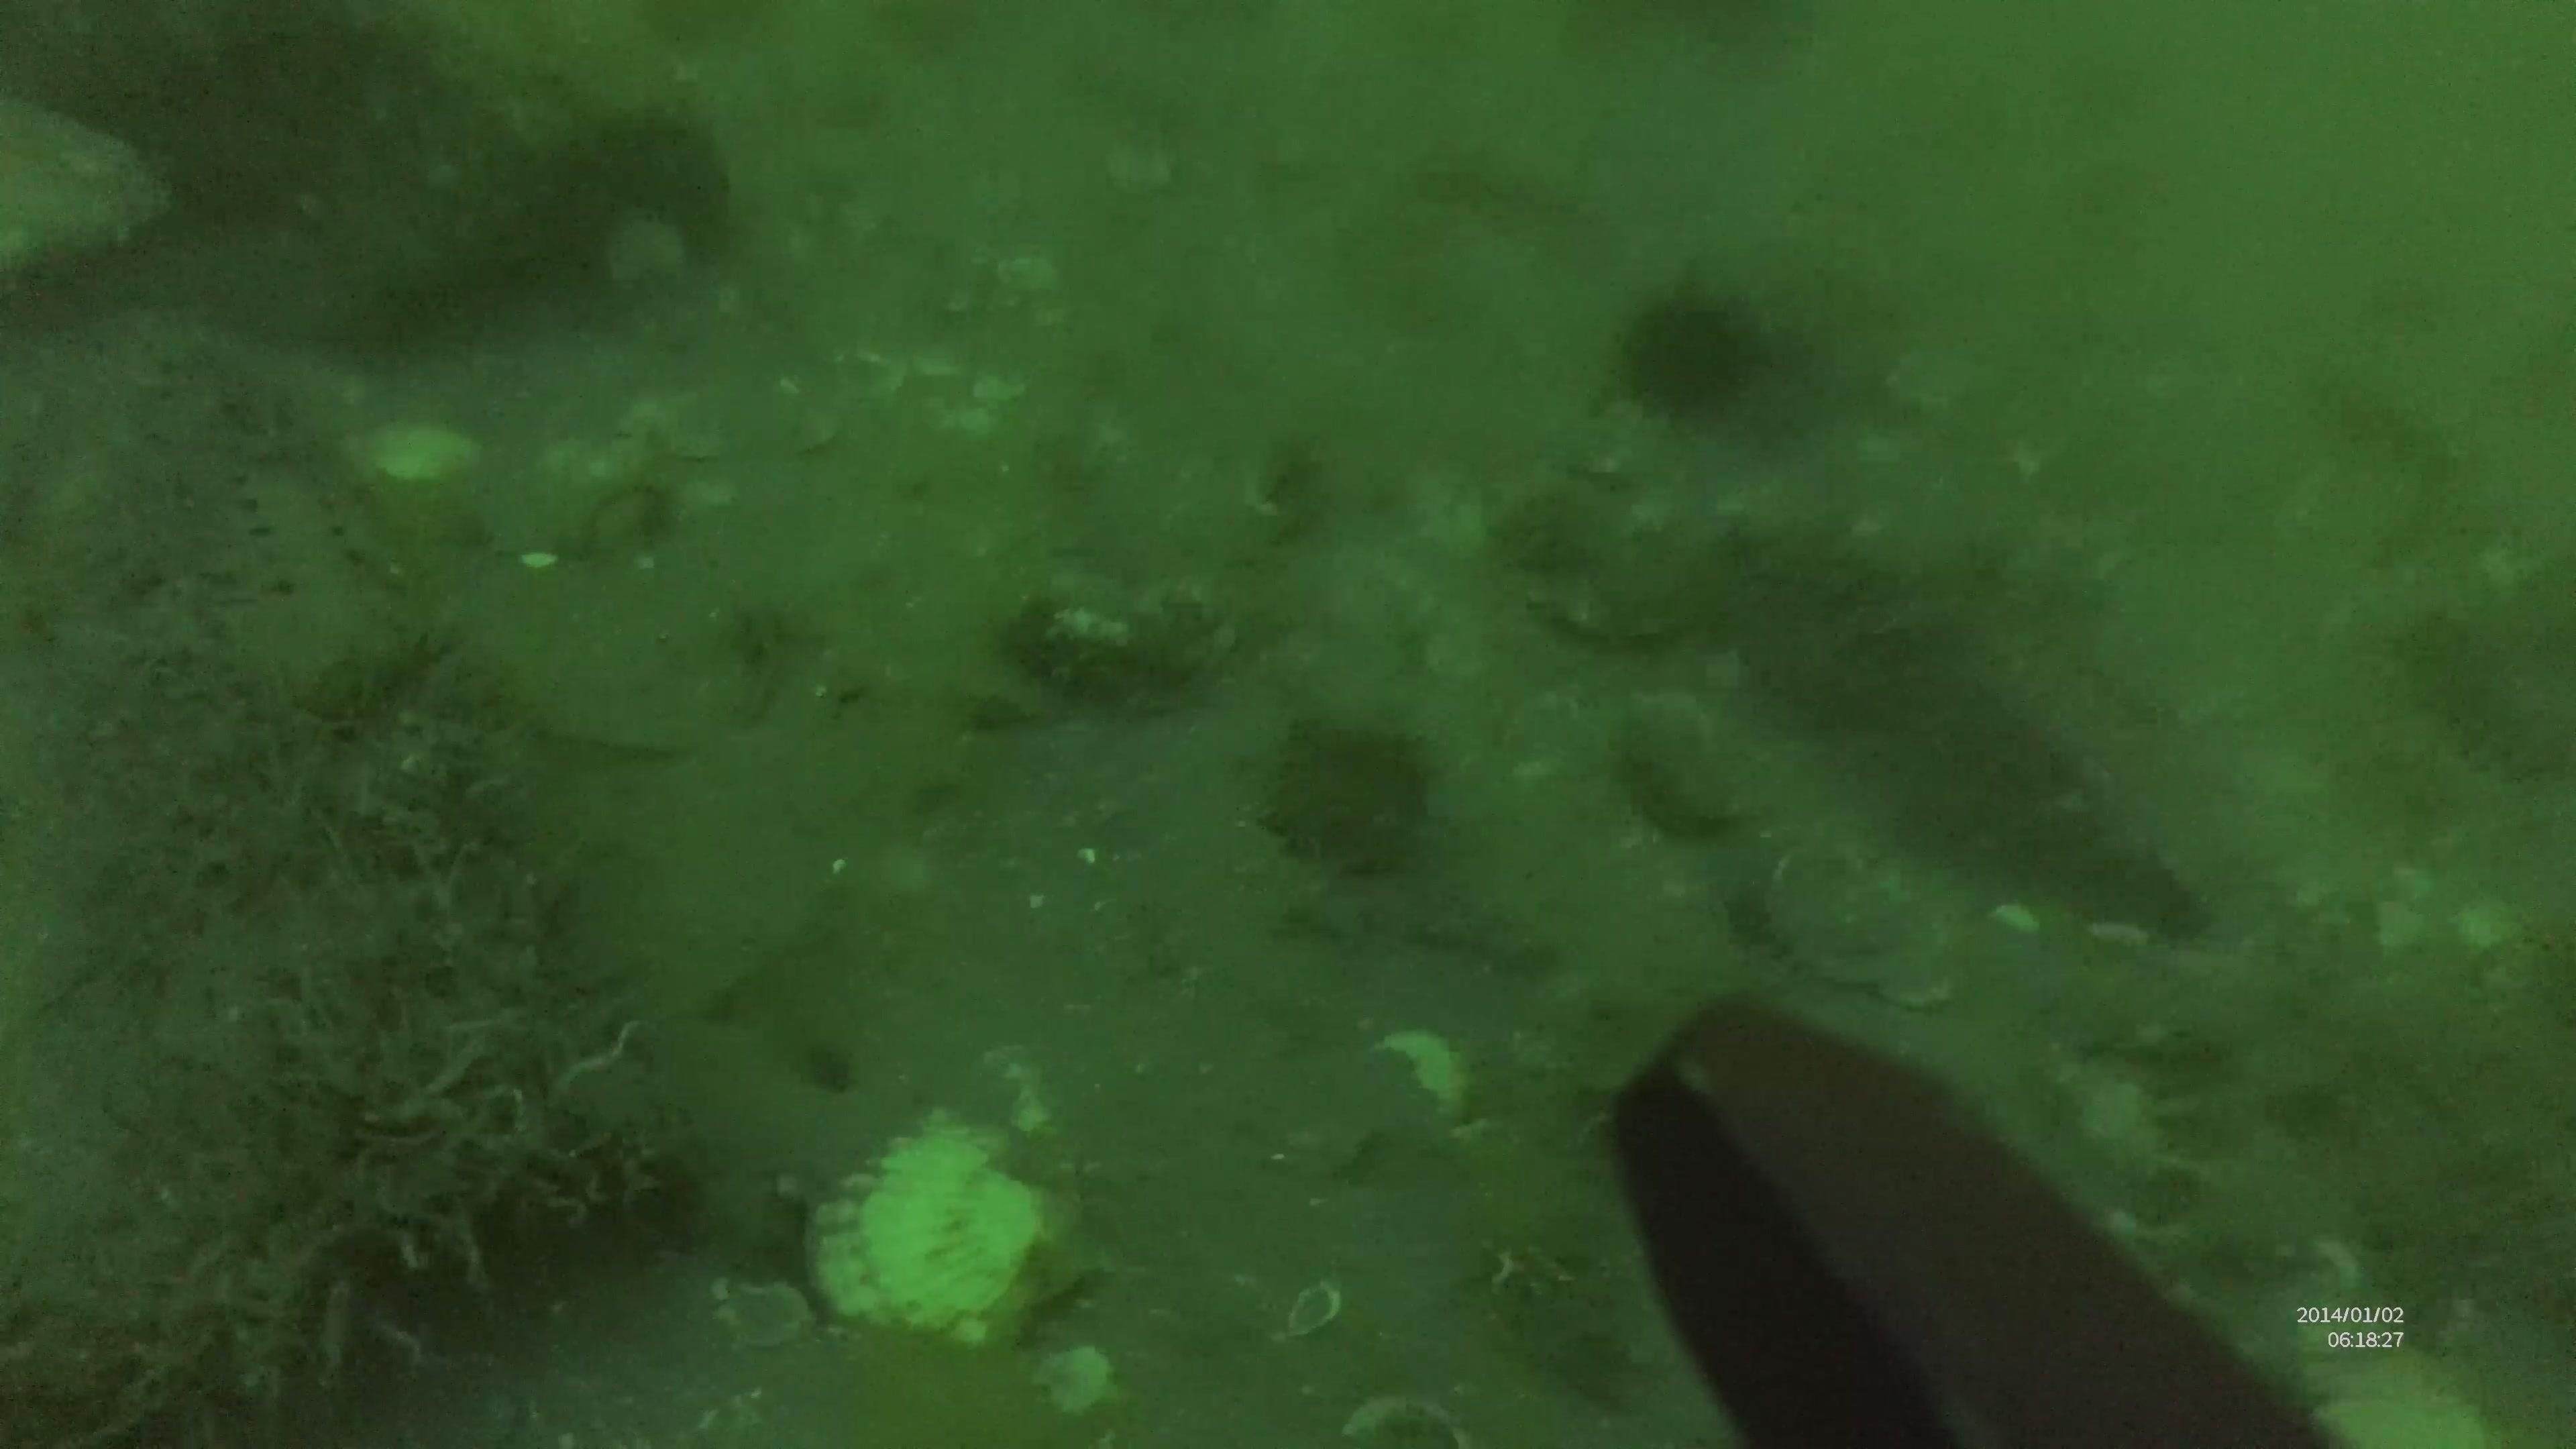echinus: (1606, 274, 1771, 428)
scallop: (807, 1113, 1060, 1352)
